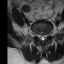CCS_normal: (41, 31, 44, 43)
LFS_normal: (46, 30, 50, 39)
LLS_normal: (44, 31, 46, 41)
RFS_normal: (36, 31, 38, 39)
RLS_normal: (38, 31, 41, 40)
